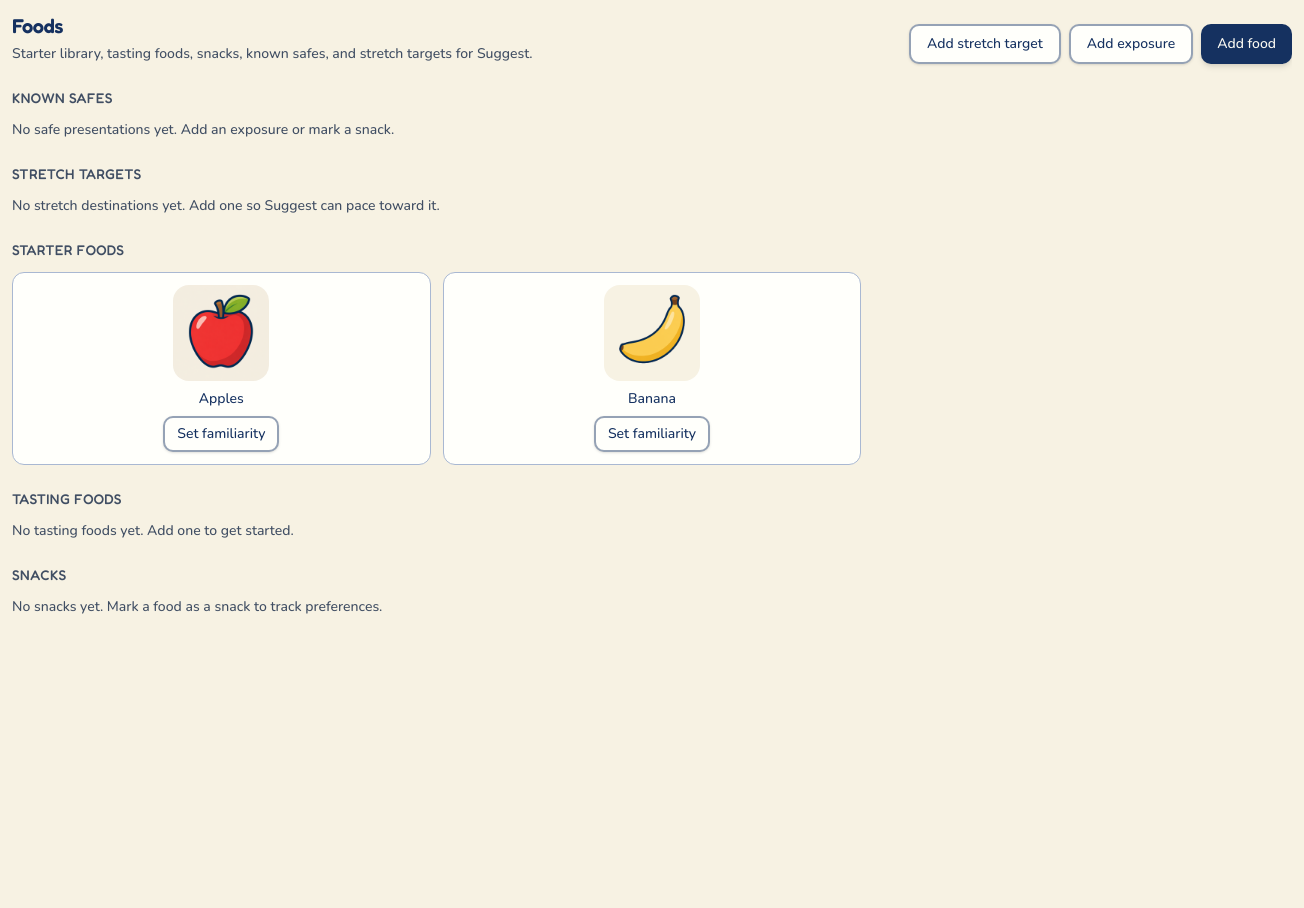
it: FoodsPage › adds an exposure overlay on a starter food
expect the text "Apples" is shown: met, box x1=199 y1=389 x2=244 y2=408
expect the element "Starter foods" is shown: met, box x1=12 y1=241 x2=861 y2=465
Step 1. Click the button "Set familiarity" below "Apples" → (221, 434), box x1=163 y1=416 x2=279 y2=452
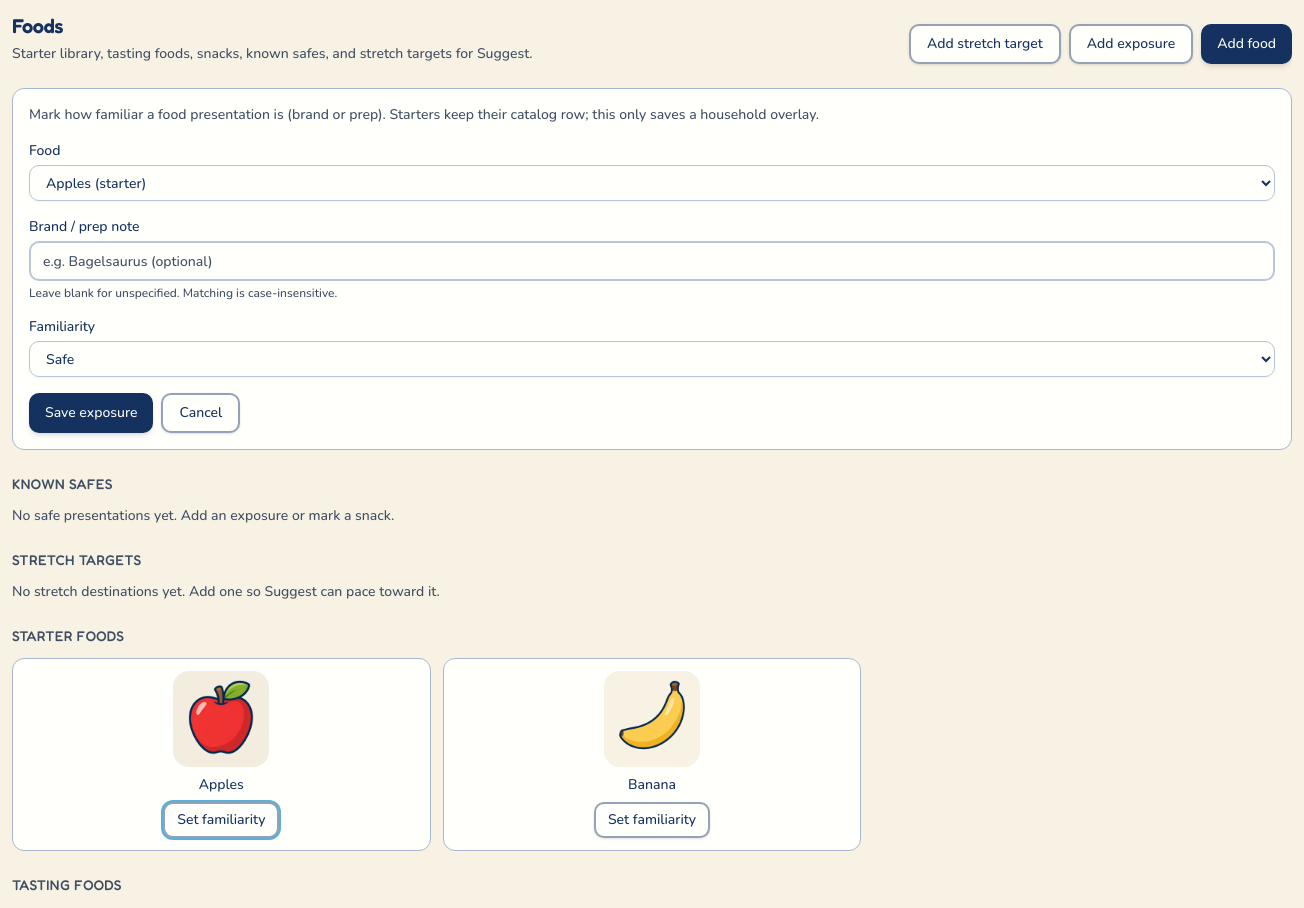
expect the dropdown named "Exposure food" shows "Apples (starter)": met, box x1=29 y1=165 x2=1275 y2=201
Step 2. Type "Bagelsaurus" into the field labelled "Brand / prep note" → (652, 261), box x1=29 y1=241 x2=1275 y2=281
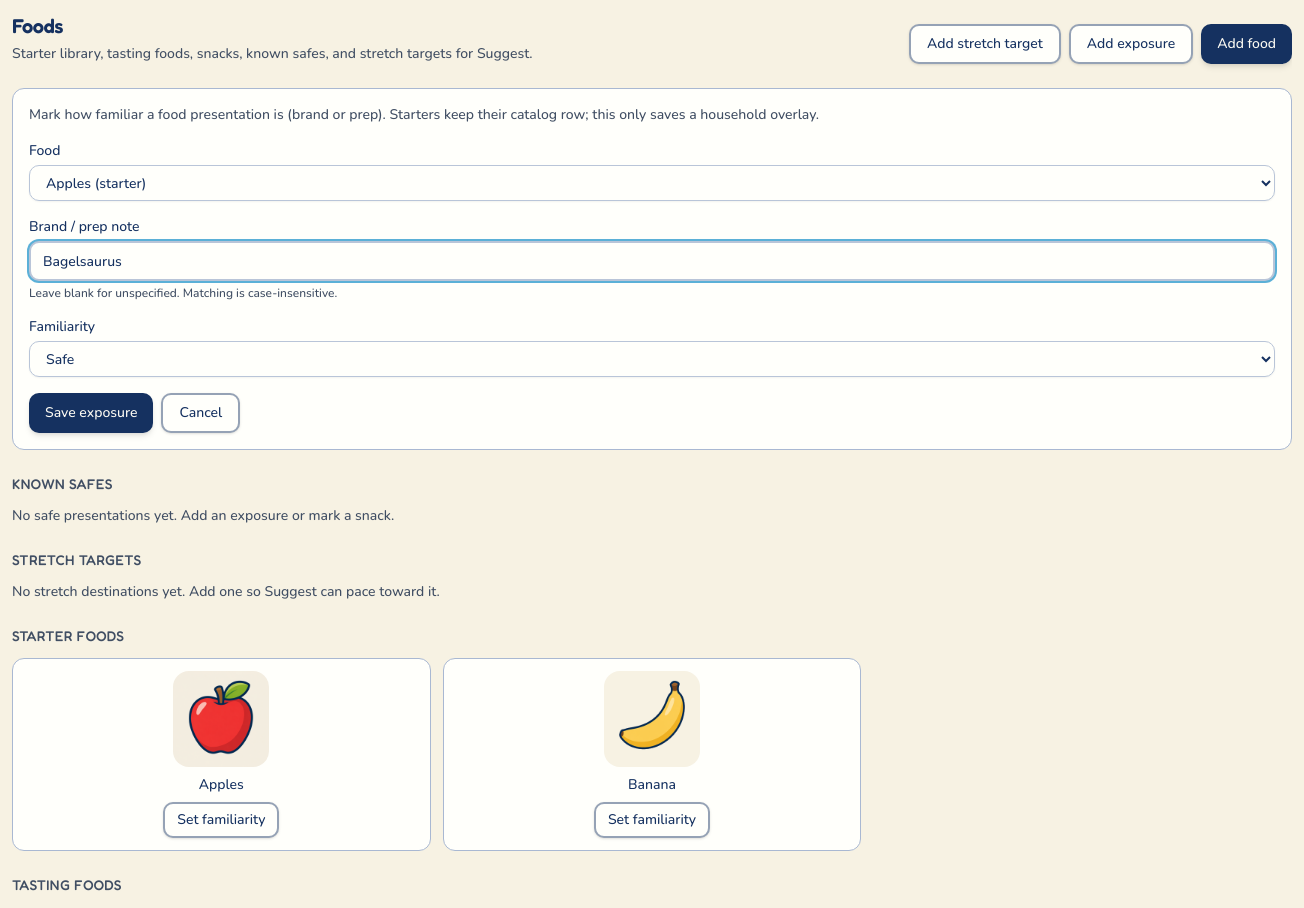
Step 3. Click the button "Save exposure" → (91, 413), box x1=29 y1=393 x2=154 y2=433
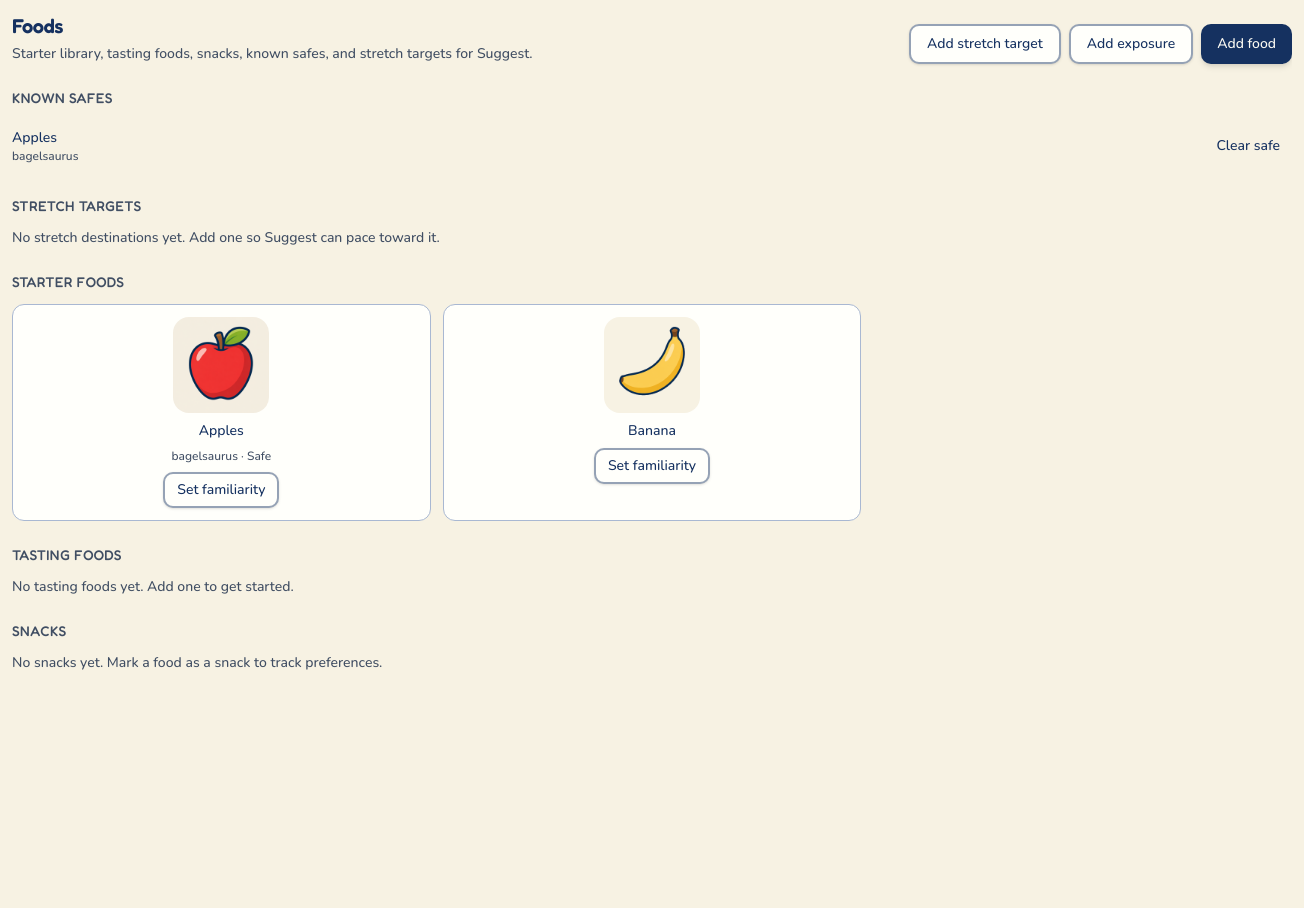
expect the heading "Known safes" is shown: met, box x1=12 y1=89 x2=113 y2=106
expect the text "bagelsaurus" is shown: met, box x1=12 y1=148 x2=78 y2=164
